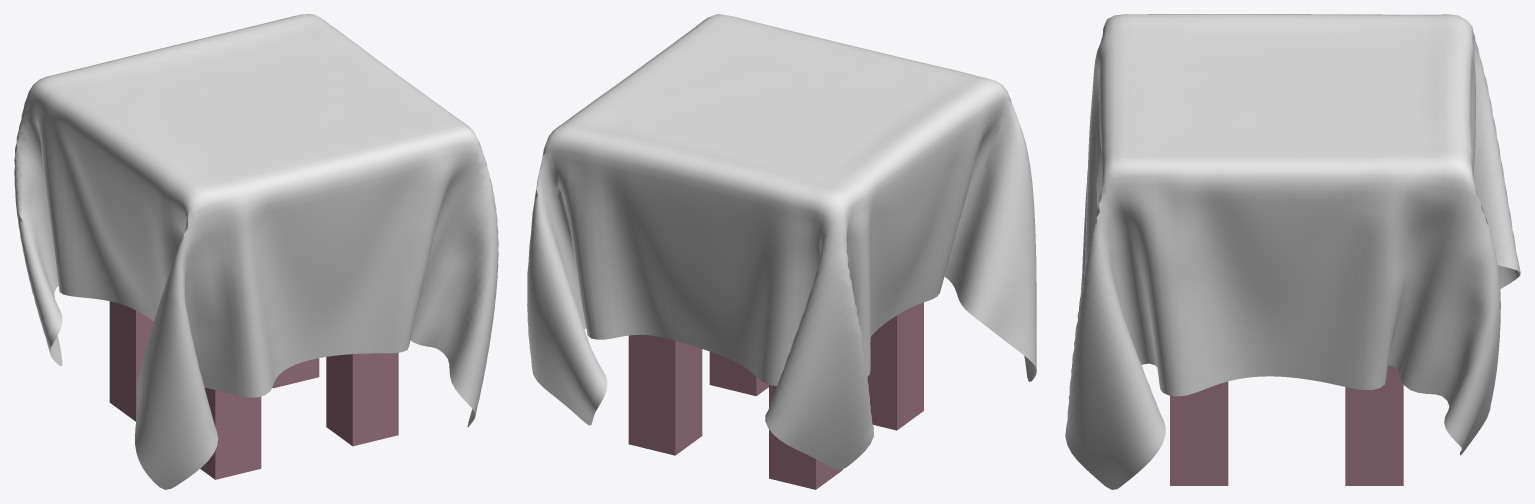
Rendered from table.fbx.
3 views of the same model, side by side, from view 1: azimuth 30°, elevation 25°; view 2: azimuth 150°, elevation 25°; view 3: azimuth 270°, elevation 25° (orthographic). The views are drawn at different scales.
Visible parts, largest first — view 1: Plane, Cube; view 2: Plane, Cube; view 3: Plane, Cube.
Boxes of the visible parts, x1=… form: Plane: x1=14, y1=14, x2=498, y2=489; Cube: x1=109, y1=301, x2=398, y2=479; Plane: x1=527, y1=14, x2=1036, y2=470; Cube: x1=628, y1=302, x2=923, y2=489; Plane: x1=1065, y1=14, x2=1520, y2=489; Cube: x1=1170, y1=365, x2=1403, y2=485.
Bounding box in the file's own units: 253 × 221 × 260.
